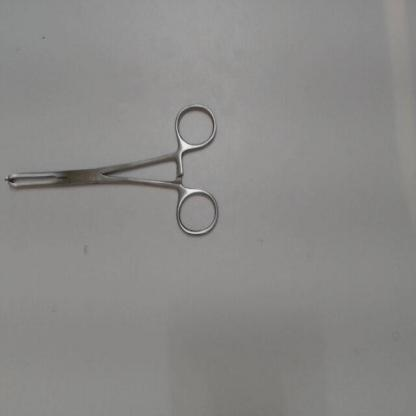Allis Tissue Forceps: (2, 96, 224, 247)
